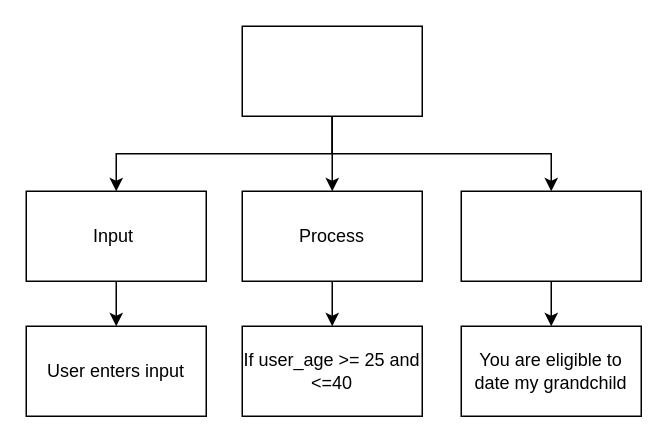
This 668x443 diagram has some shape labels left out. The centre of each missing label's shape, as x and y in pixels:
Eligibility to date: the point at 331,70
Output: the point at 550,235
